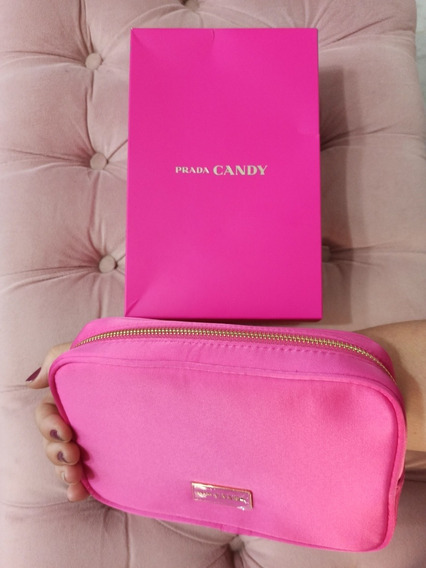cartera: (52, 316, 407, 551)
